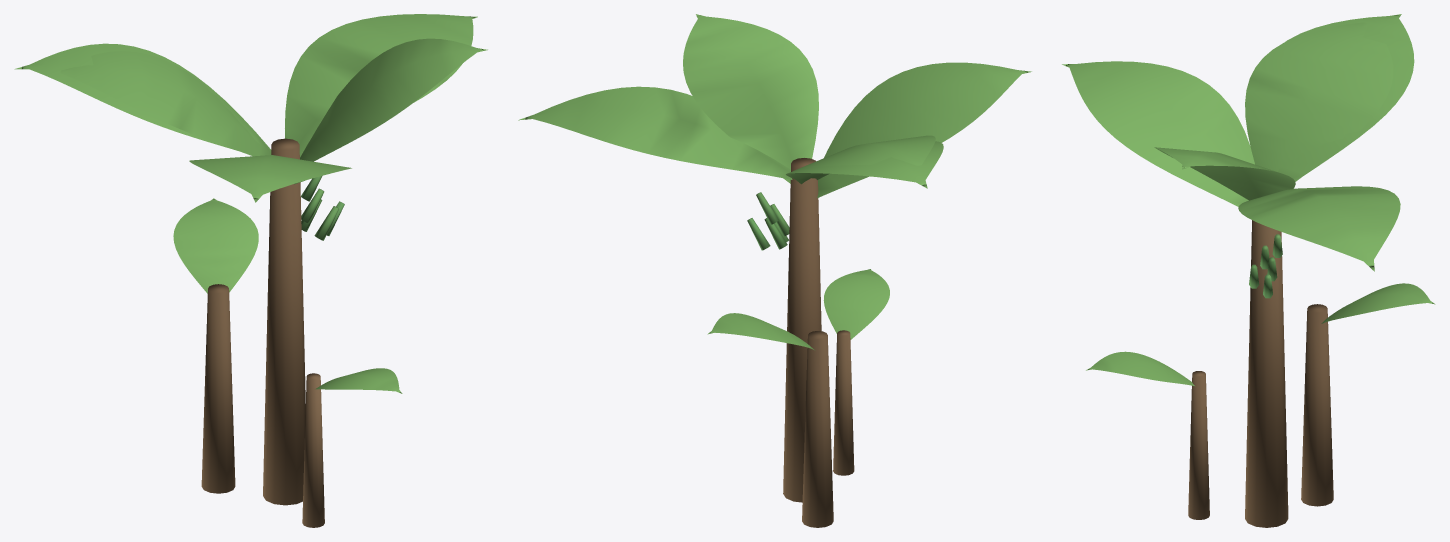
Rendered from banana_plant_LOD1.glb.
3 views of the same model, side by side, from view 1: azimuth 30°, elevation 25°; view 2: azimuth 150°, elevation 25°; view 3: azimuth 270°, elevation 25° (orthographic). The views are drawn at different scales.
Parts seen in each view (by area): view 1: banana_plant_LOD1; view 2: banana_plant_LOD1; view 3: banana_plant_LOD1.
Boxes of the visible parts, x1,y1,x2,y2 form: banana_plant_LOD1: [14, 14, 487, 527]; banana_plant_LOD1: [518, 14, 1031, 527]; banana_plant_LOD1: [1062, 14, 1435, 527].
Size of the model in its own units: 3.69 by 3.44 by 2.75.
